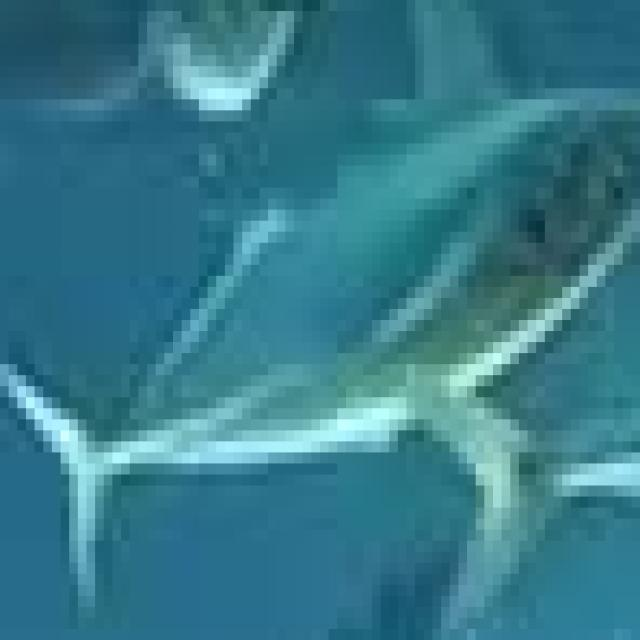fish: (8, 0, 640, 629)
